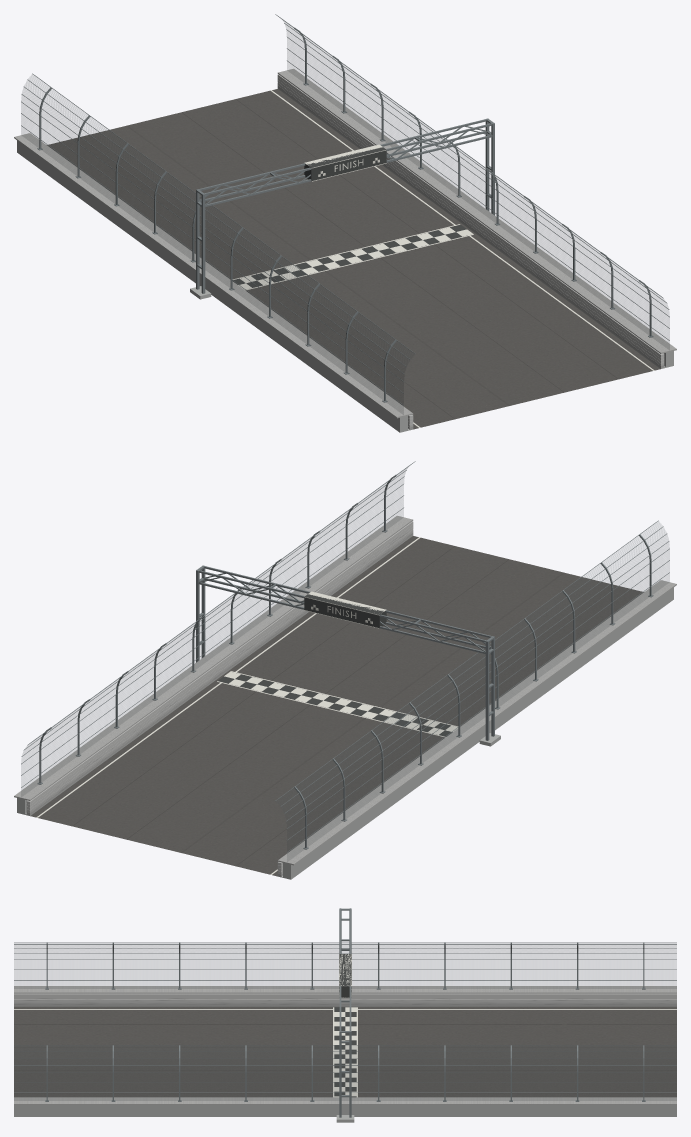
The model's file is empire-straight.glb.
3 renders of one model, top to bottom at view 1: azimuth 30°, elevation 25°; view 2: azimuth 150°, elevation 25°; view 3: azimuth 270°, elevation 25°, orthographic. The views are drawn at different scales.
Parts seen in each view (by area): view 1: Continuous racing surface, Left woven catch mesh, Right woven catch mesh, Left barrier cap, Right barrier cap, Left concrete backing, Left woven catch mesh.002, Left woven catch mesh.003, Left woven catch mesh.001, Left woven catch mesh.004, Right woven catch mesh.001, Right steel barrier rail 5 (+10 smaller); view 2: Continuous racing surface, Left woven catch mesh, Right woven catch mesh, Left barrier cap, Right barrier cap, Left concrete backing, Left woven catch mesh.002, Left woven catch mesh.003, Left woven catch mesh.001, Left woven catch mesh.004, Right woven catch mesh.001, Right steel barrier rail 5 (+10 smaller); view 3: Continuous racing surface, Left woven catch mesh, Right woven catch mesh, Right concrete backing, Right barrier cap, Left barrier cap, Right woven catch mesh.002, Right woven catch mesh.003, Right woven catch mesh.001, Right woven catch mesh.004, Left woven catch mesh.001, Left steel barrier rail 5 (+24 smaller).
Part boxes in pixels (box(x1,y1,x2,y2)): Continuous racing surface: box(47, 89, 660, 429); Left woven catch mesh: box(21, 103, 403, 414); Right woven catch mesh: box(287, 38, 669, 349); Left barrier cap: box(14, 133, 413, 418); Right barrier cap: box(277, 68, 676, 353); Left concrete backing: box(17, 140, 407, 432); Left woven catch mesh.002: box(22, 88, 405, 372); Left woven catch mesh.003: box(24, 80, 409, 365); Left woven catch mesh.001: box(21, 95, 403, 380); Left woven catch mesh.004: box(28, 74, 413, 358); Right woven catch mesh.001: box(287, 31, 668, 315); Right steel barrier rail 5: box(277, 74, 664, 357); Continuous racing surface: box(30, 536, 643, 876); Left woven catch mesh: box(287, 550, 669, 861); Right woven catch mesh: box(21, 485, 403, 796); Left barrier cap: box(277, 580, 676, 865); Right barrier cap: box(14, 515, 413, 800); Left concrete backing: box(283, 587, 673, 879); Left woven catch mesh.002: box(285, 535, 668, 819); Left woven catch mesh.003: box(281, 527, 666, 812); Left woven catch mesh.001: box(287, 542, 669, 827); Left woven catch mesh.004: box(277, 521, 662, 805); Right woven catch mesh.001: box(22, 478, 403, 762); Right steel barrier rail 5: box(26, 521, 413, 804); Continuous racing surface: box(14, 1006, 676, 1097); Left woven catch mesh: box(14, 960, 676, 988); Right woven catch mesh: box(14, 1073, 676, 1100); Right concrete backing: box(14, 1105, 676, 1116); Right barrier cap: box(14, 1097, 676, 1104); Left barrier cap: box(14, 986, 676, 993); Right woven catch mesh.002: box(14, 1059, 676, 1064); Right woven catch mesh.003: box(14, 1052, 676, 1057); Right woven catch mesh.001: box(14, 1066, 676, 1071); Right woven catch mesh.004: box(14, 1046, 676, 1050); Left woven catch mesh.001: box(14, 954, 676, 958); Left steel barrier rail 5: box(14, 993, 676, 996).
Size of the model in its own units: 27.2 by 8.89 by 60.
7 materials, 3 textured.
